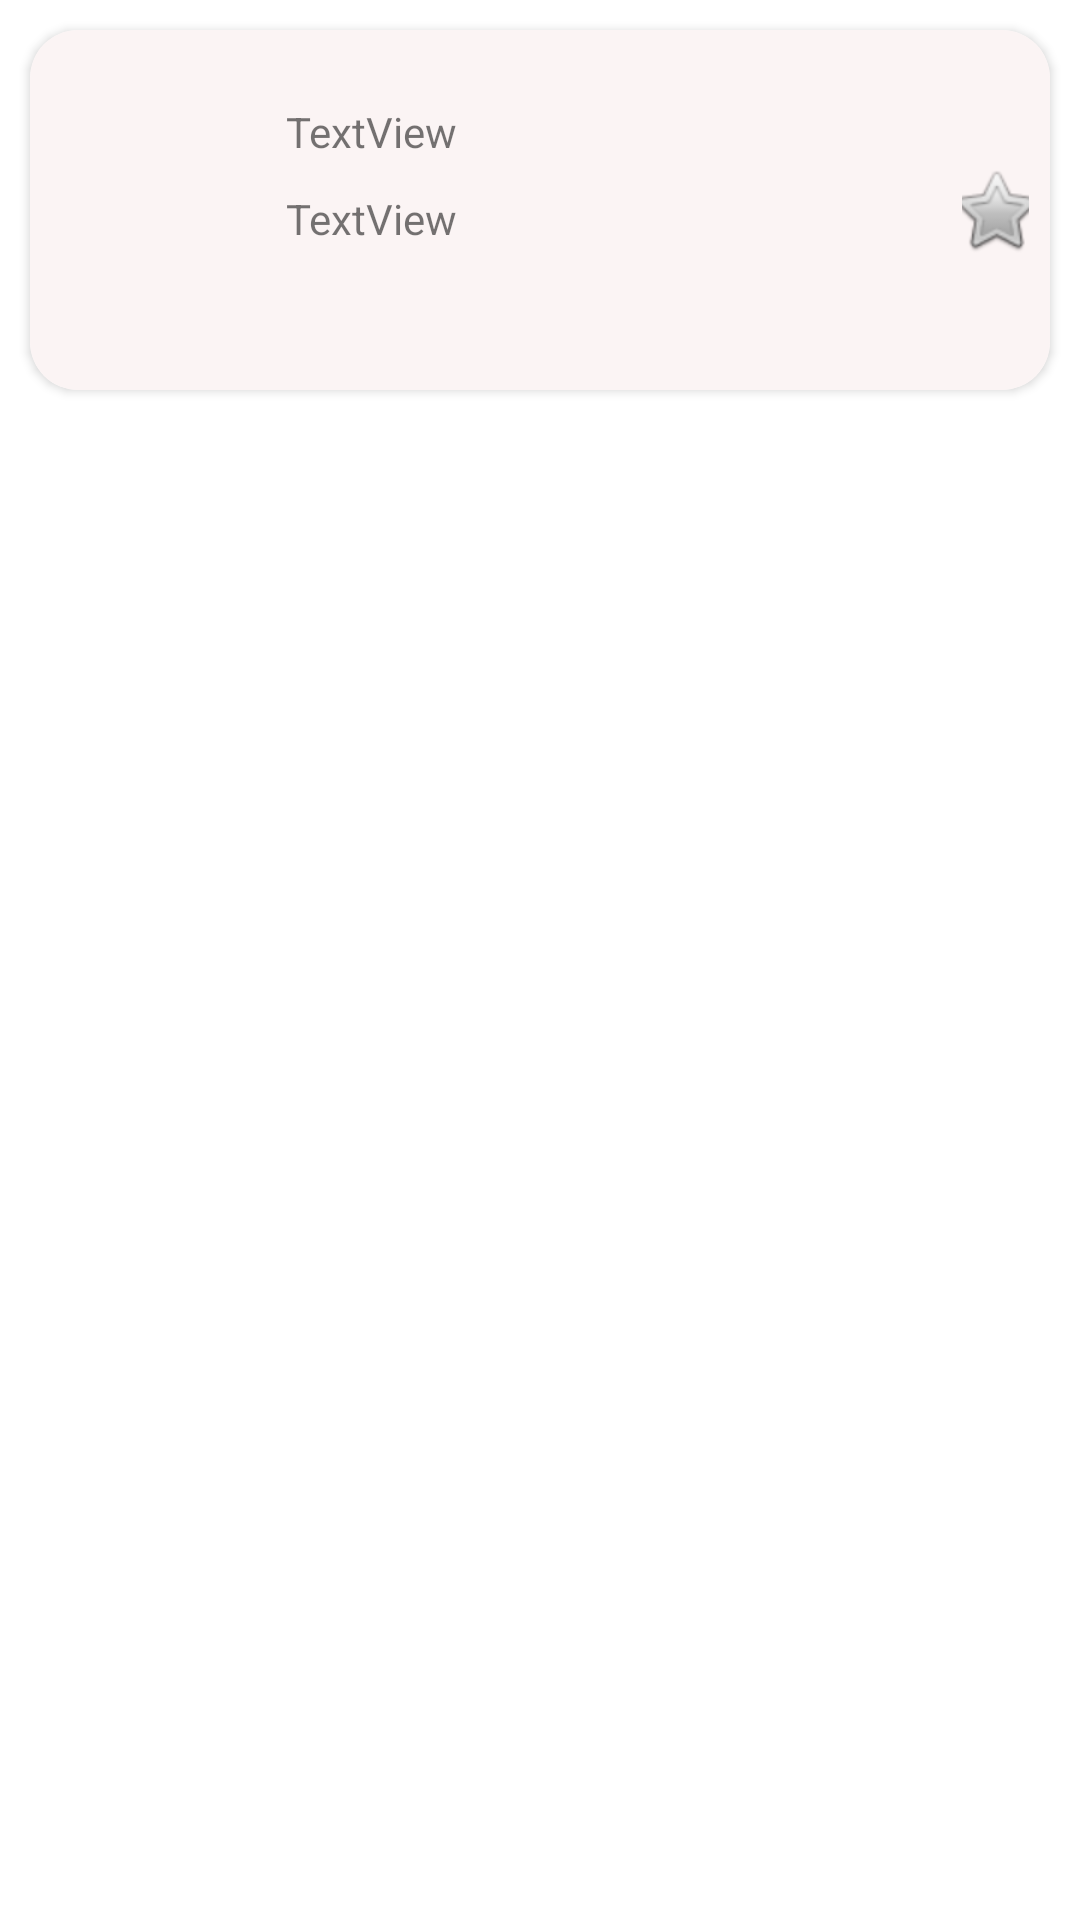

Locate icon controls on the screen. Image size 1080×1920, boxes as (x1, y1, x2, y2).
star: (962, 172, 1029, 250)
